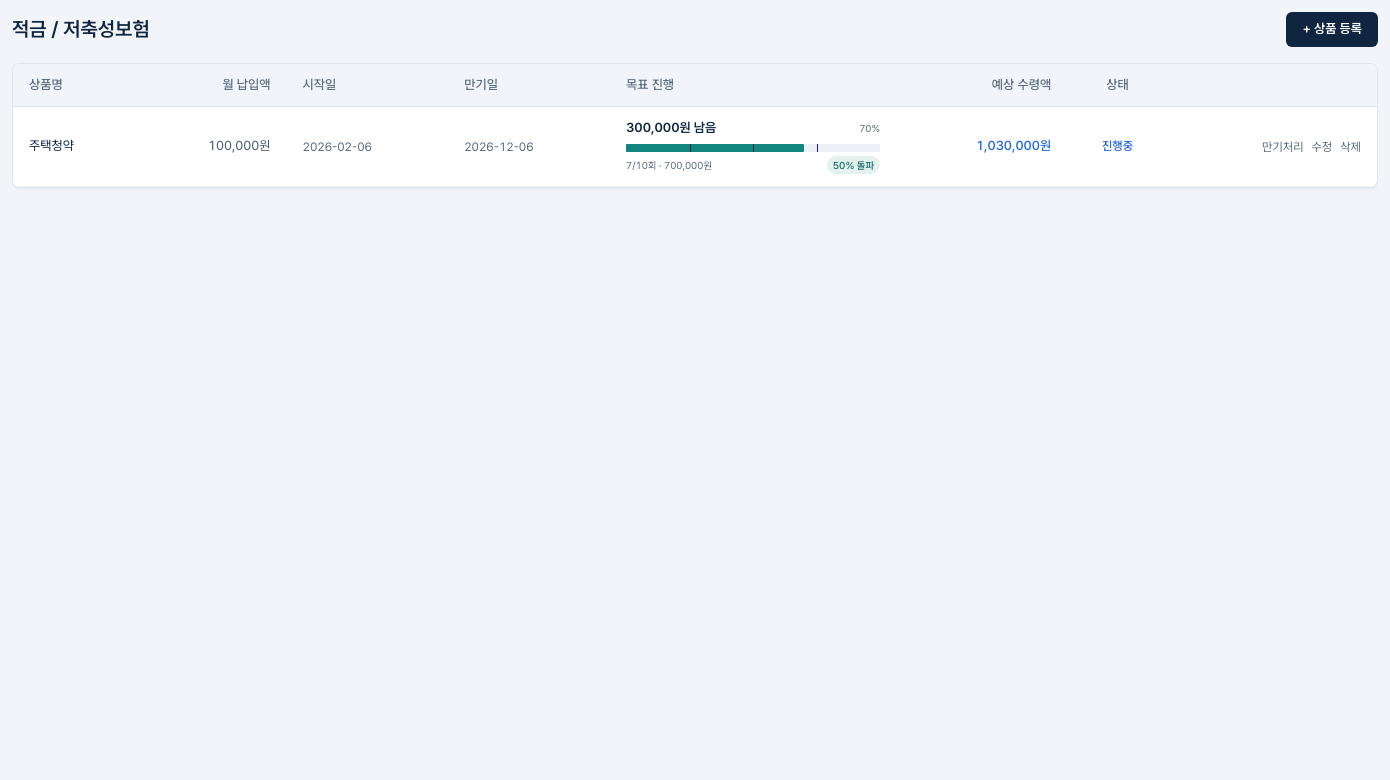
Scenario: 등록 폼 › 시작일 기본값은 오늘이다
Click the button "+ 상품 등록".
click(1332, 29)  # box 1286,12 -> 1378,47
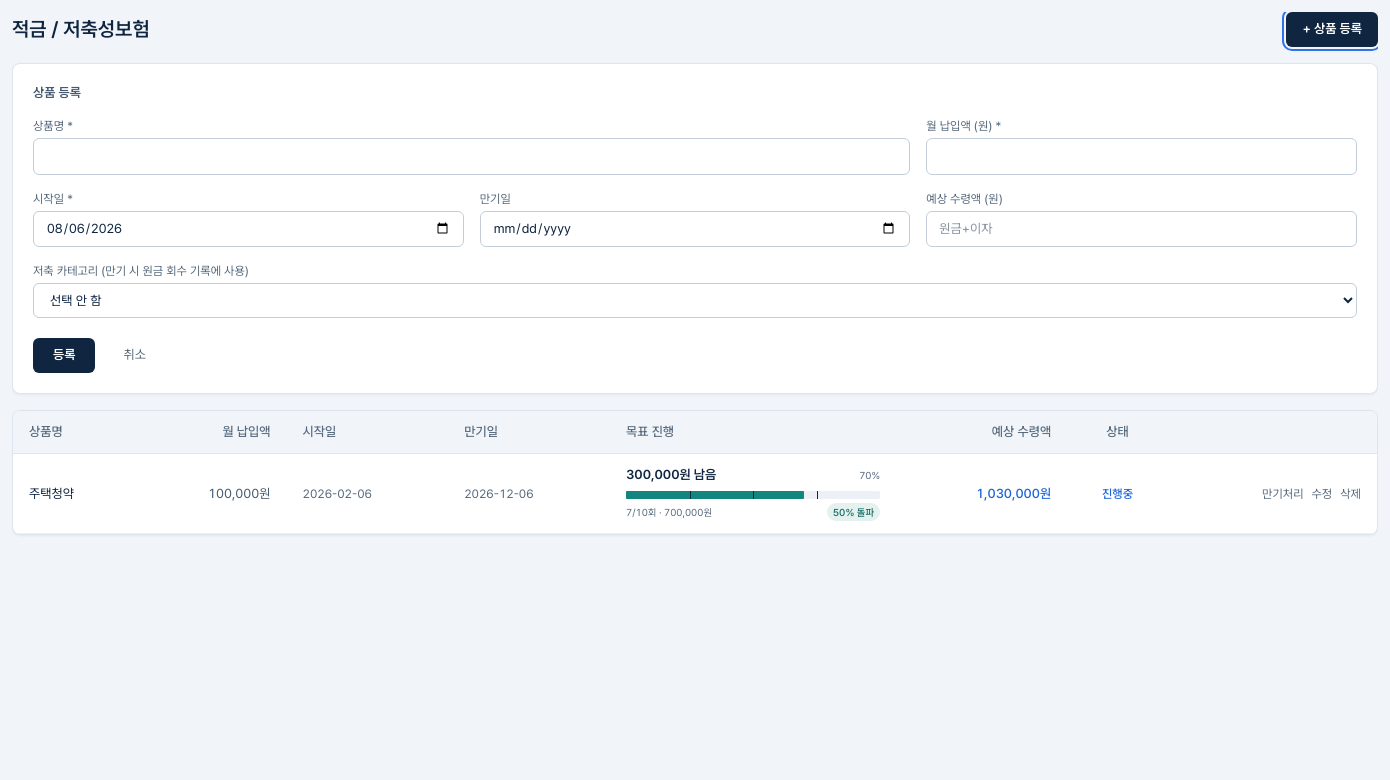
Expected: the date field labelled "시작일 *" holds "2026-08-06", 33,211 -> 464,247
